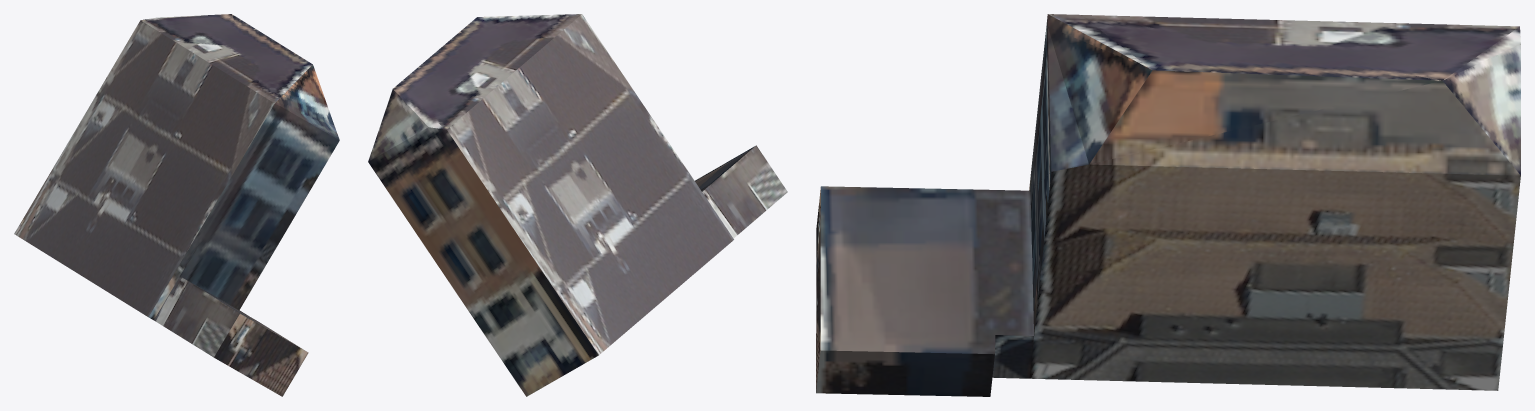
3 views of the same model, side by side, from view 1: azimuth 30°, elevation 25°; view 2: azimuth 150°, elevation 25°; view 3: azimuth 270°, elevation 25° (orthographic). The views are drawn at different scales.
Visible parts, largest first — view 1: BAG_0599100000688743 (×4); view 2: BAG_0599100000688743 (×4); view 3: BAG_0599100000688743 (×4).
Part boxes in pixels (x1,y1,x2,y2): BAG_0599100000688743 (×4): (14,14,339,396); BAG_0599100000688743 (×4): (368,14,787,396); BAG_0599100000688743 (×4): (816,14,1520,396).
Bounding box in the file's own units: 11.53 × 12.78 × 18.36.
1 material, 1 textured.
